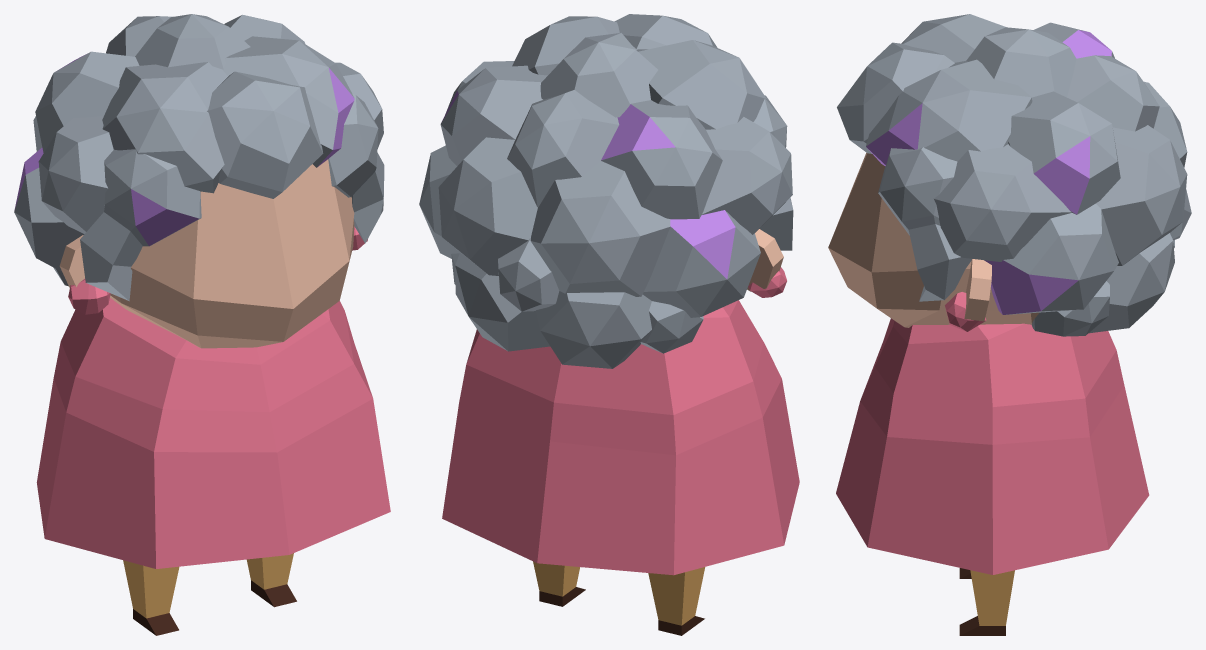
Rendered from mummo.glb.
3 renders of one model, left to right at view 1: azimuth 30°, elevation 25°; view 2: azimuth 150°, elevation 25°; view 3: azimuth 270°, elevation 25°, orthographic. The views are drawn at different scales.
Visible parts, largest first — view 1: Cube; view 2: Cube; view 3: Cube.
Part boxes in pixels (box(x1,y1,x2,y2)): Cube: box(14, 14, 390, 635); Cube: box(419, 14, 799, 635); Cube: box(828, 14, 1191, 635).
Size of the model in its own units: 1.23 by 2.06 by 1.18.
